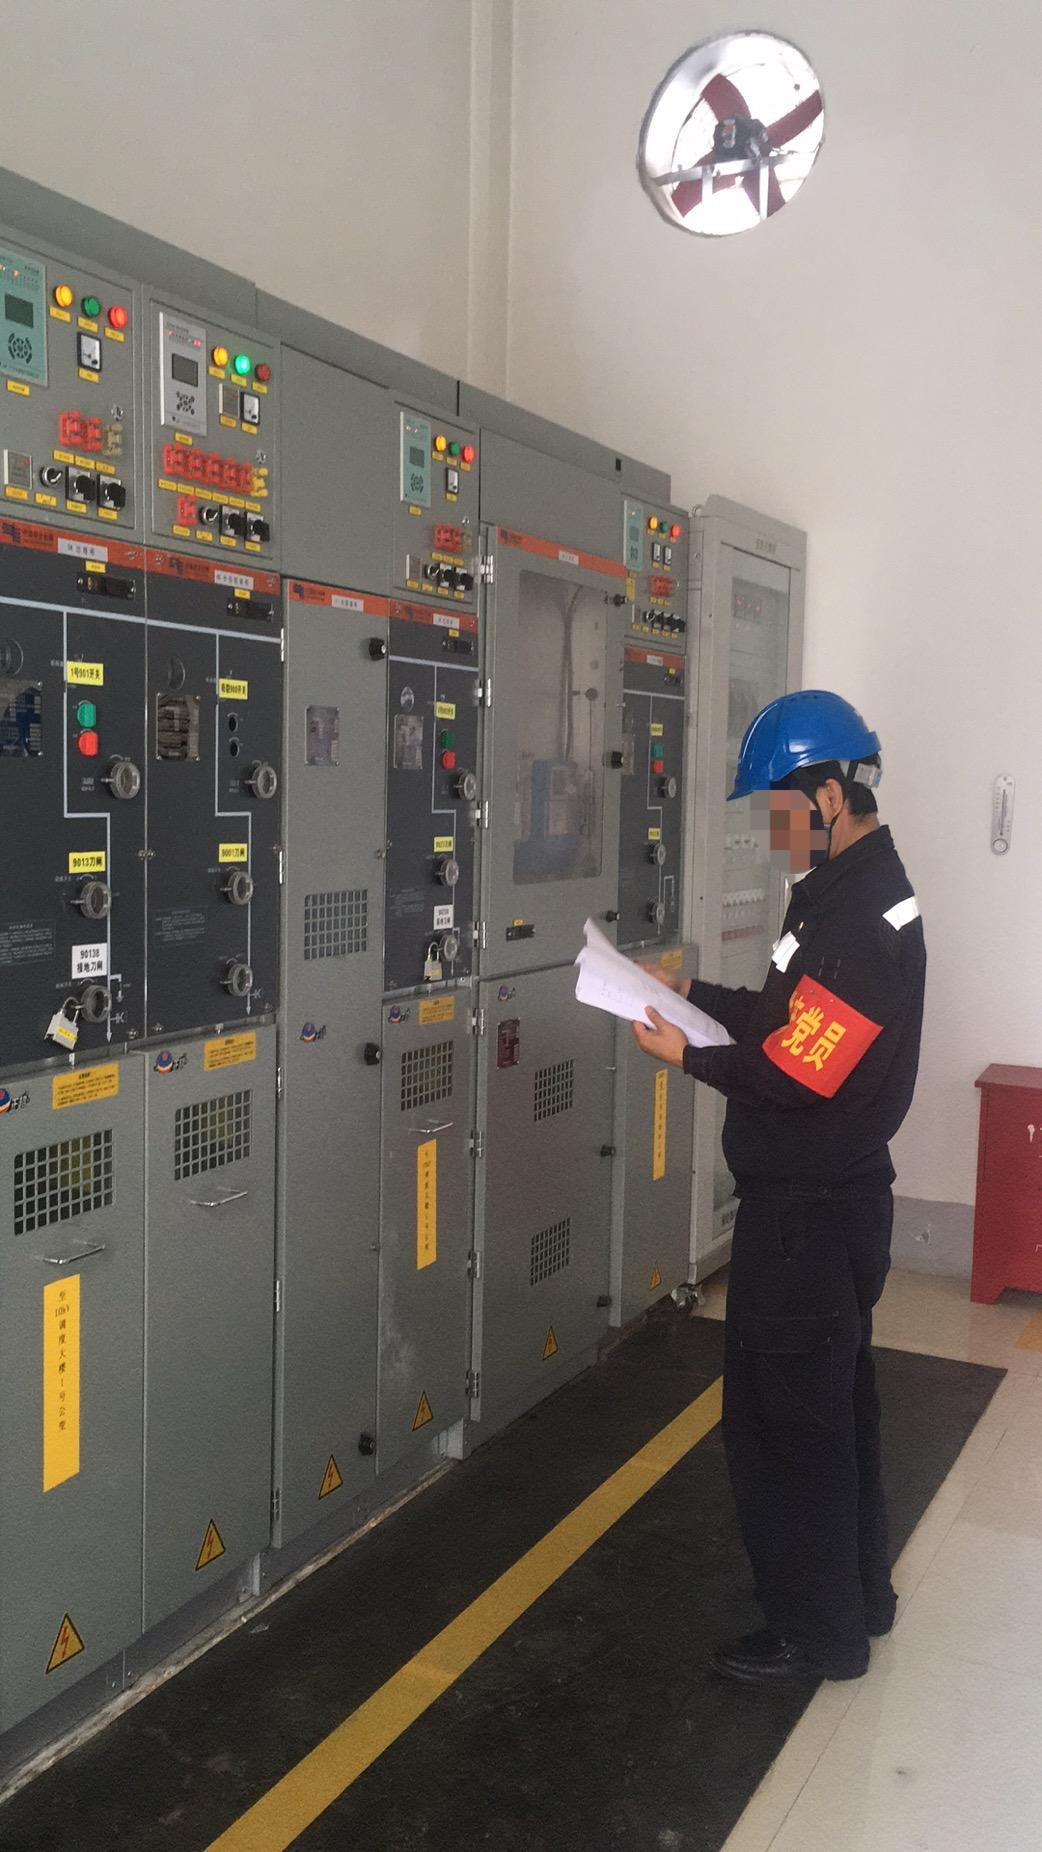halt: (732, 689, 892, 864)
inear: (788, 770, 860, 837)
